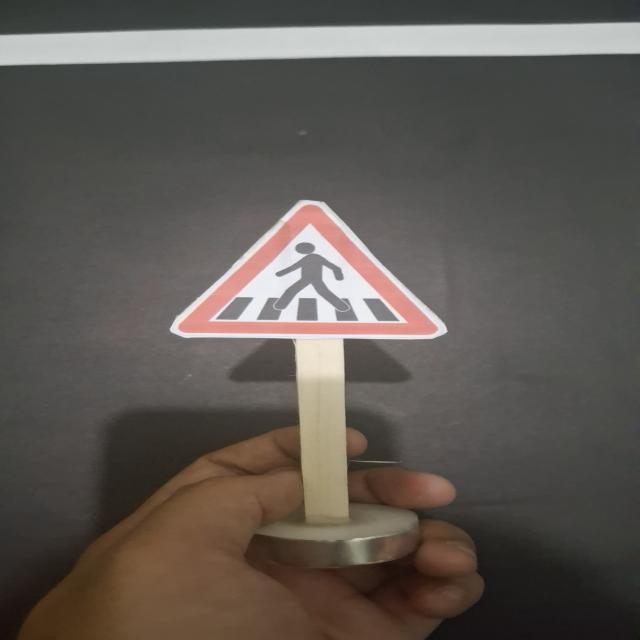Rambu Penyebrangan: (174, 202, 445, 339)
